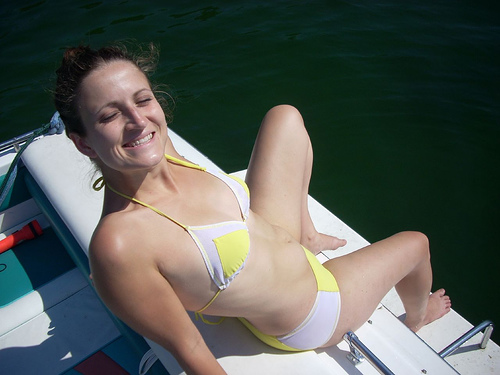without_mask: (60, 57, 177, 185)
